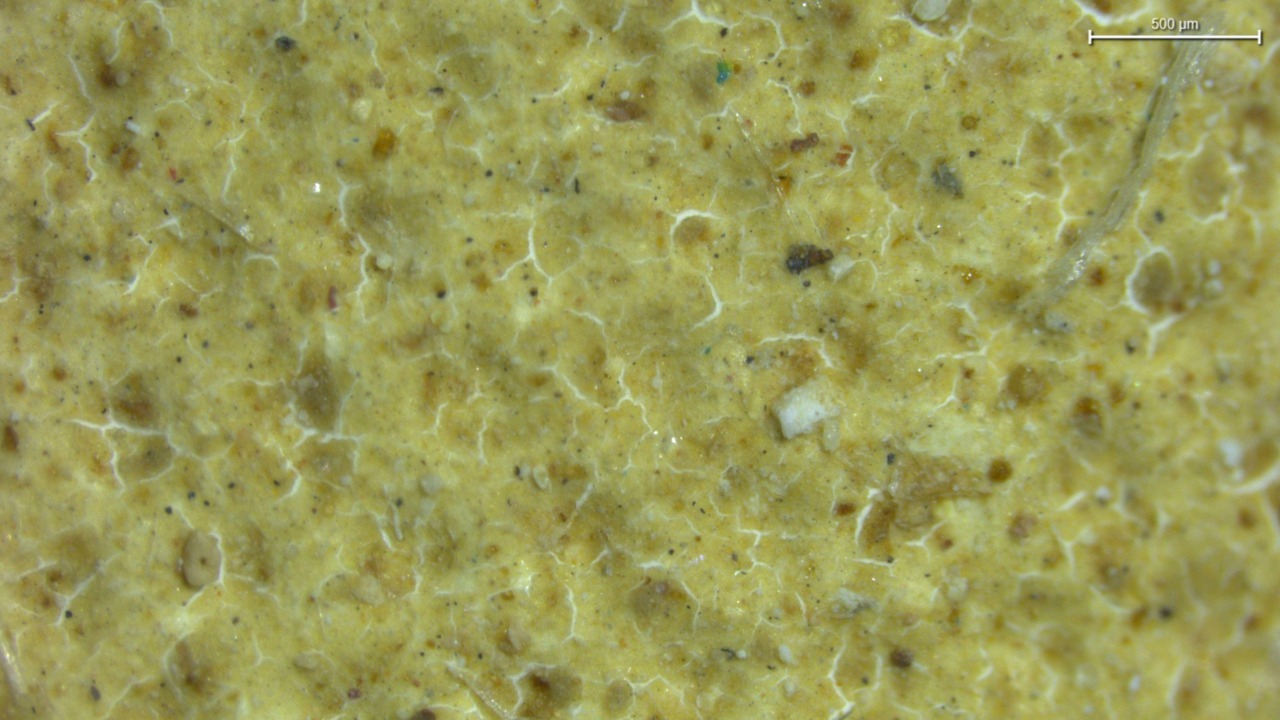microplastic_fragment: (774, 386, 830, 438), (177, 531, 222, 589)
